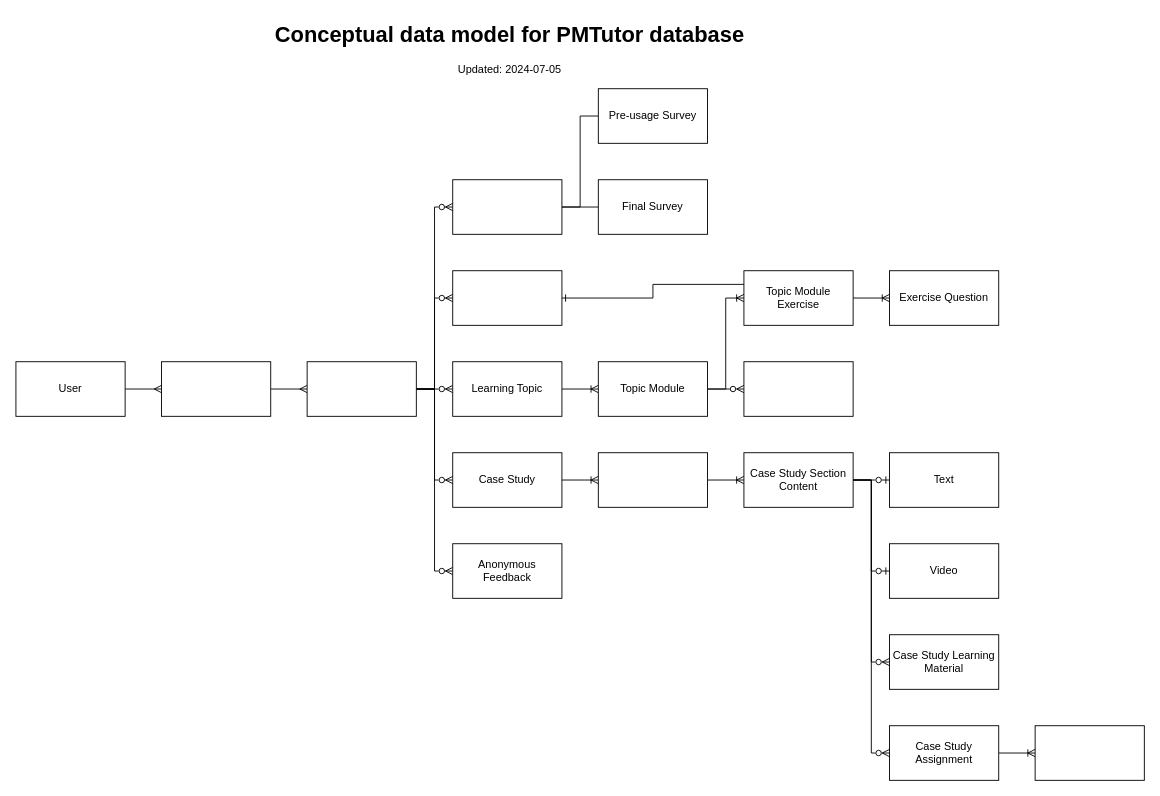
Image size: 1160x796. Some labels were removed from this diagram. The shapes that lost their labels are listed below. From the top down, each one's centre as x and y in pixels, then its label:
pixel 507 206: Survey
pixel 507 297: Self Assessment
pixel 216 388: Session
pixel 361 388: Event
pixel 798 388: Topic Module Learning Material
pixel 652 479: Case Study Section
pixel 1089 752: Case Study Assignment Question
